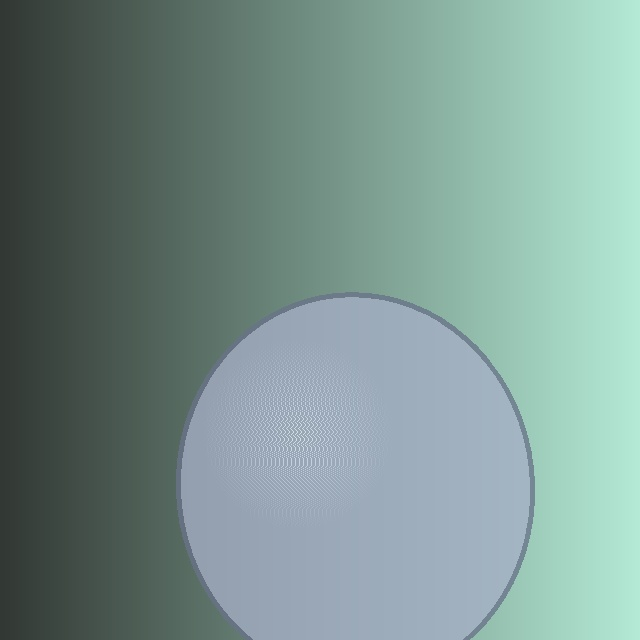lens: (179, 295, 531, 640)
